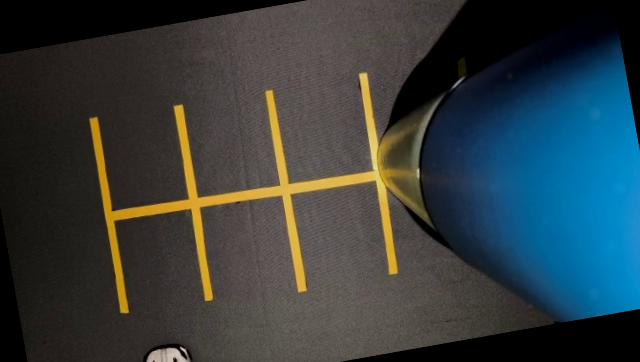toy_car: (110, 296, 256, 362)
